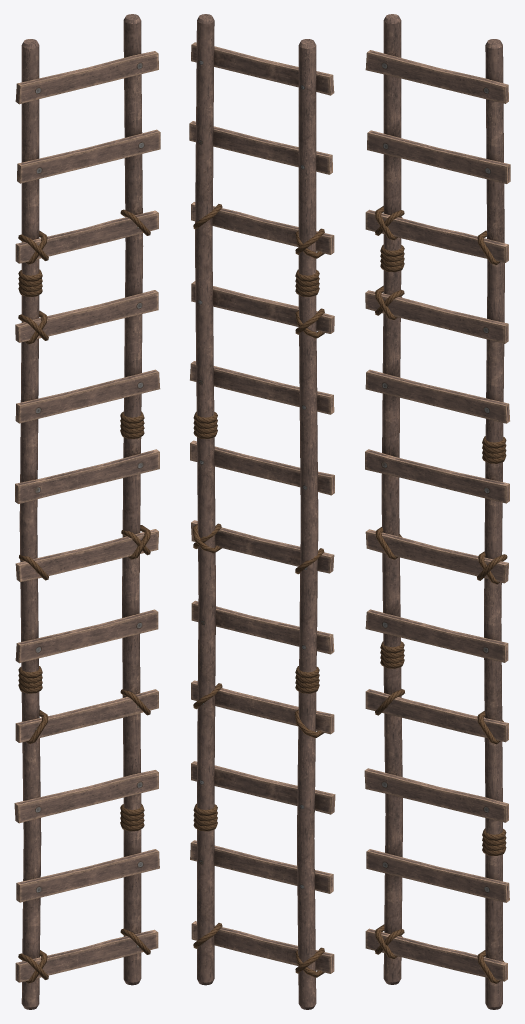
File: ladder.FBX
3 renders of one model, left to right at view 1: azimuth 30°, elevation 25°; view 2: azimuth 150°, elevation 25°; view 3: azimuth 330°, elevation 25°, orthographic.
Parts seen in each view (by area): view 1: ladder; view 2: ladder; view 3: ladder.
Part boxes in pixels (x1,y1,x2,y2): ladder: (14, 14, 160, 1009); ladder: (189, 14, 335, 1009); ladder: (364, 14, 510, 1009).
Size of the model in its own units: 67.39 by 436 by 13.49.
